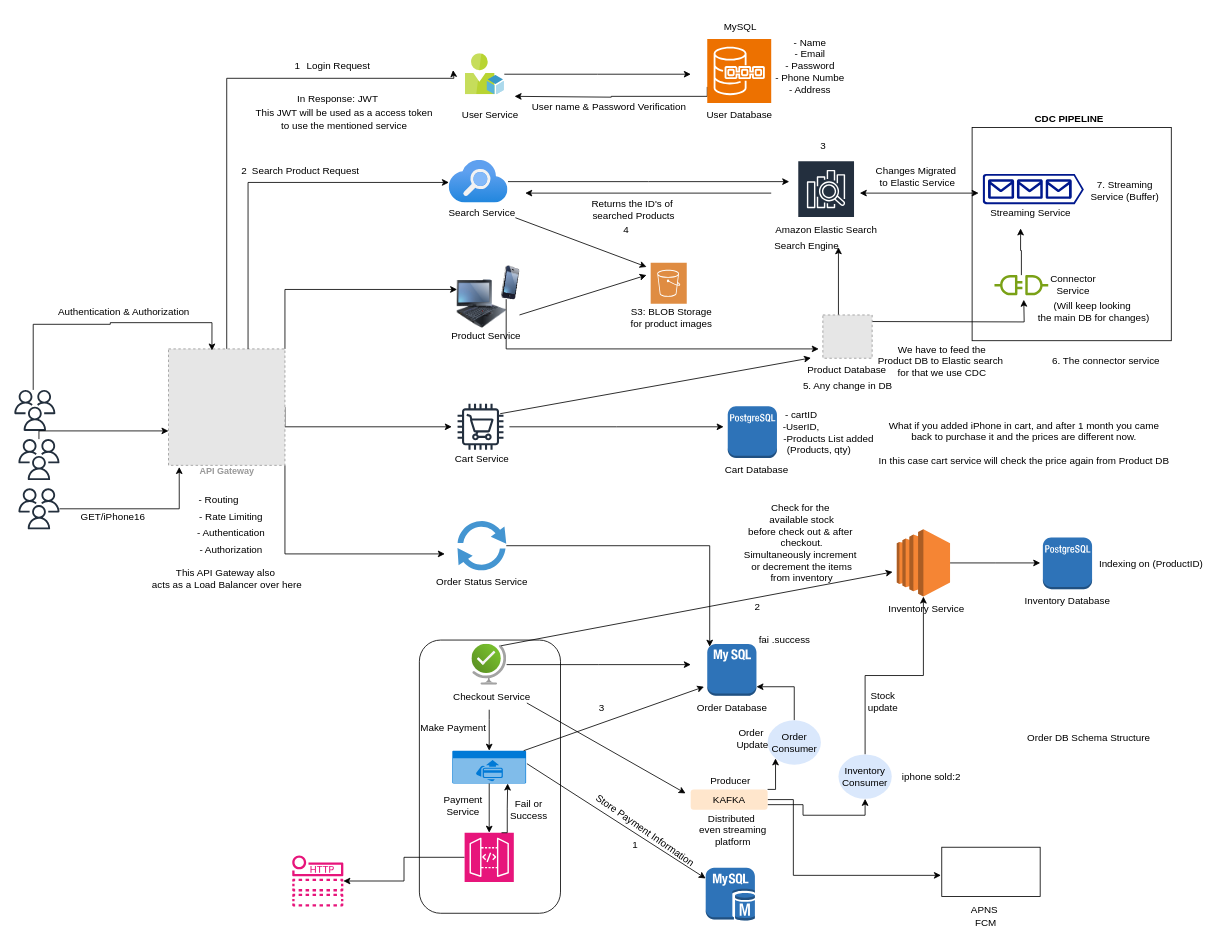
Some shapes in this 1227 by 946 pixel diagram are drawn without their labels. Grey dashed boxes stand in for pictures. Each missing label, with the box of its shape:
Payment: (452, 750, 526, 783)
User Notification Serivce: (941, 846, 1040, 896)
